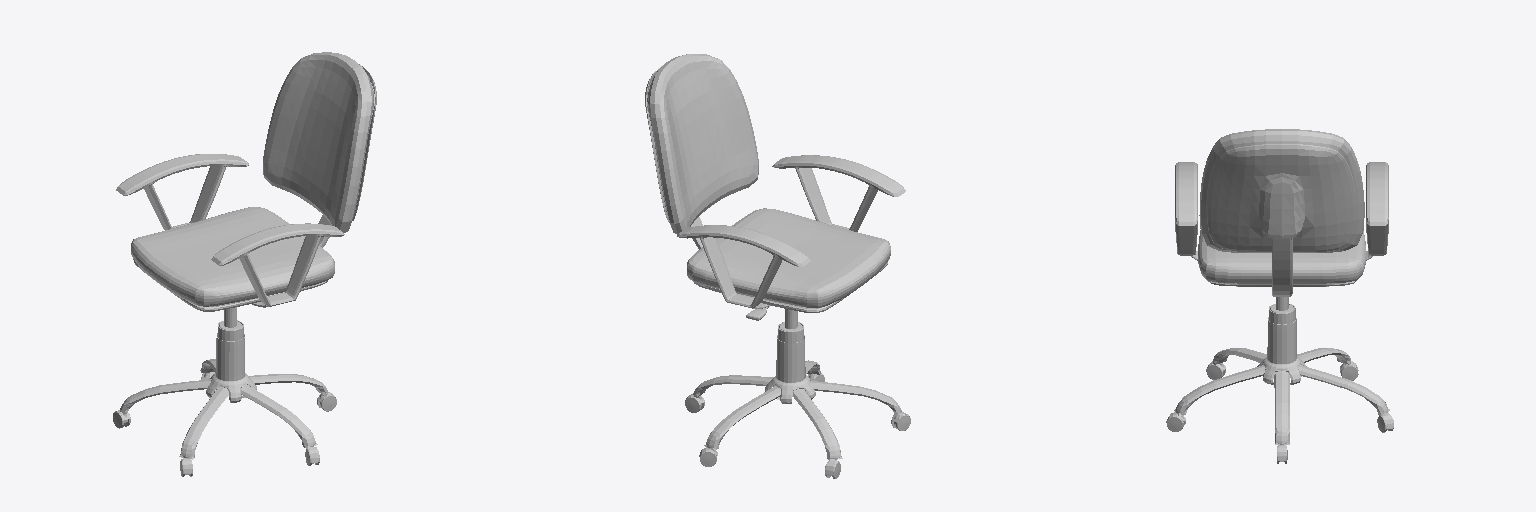
3 views of the same model, side by side, from view 1: azimuth 30°, elevation 25°; view 2: azimuth 150°, elevation 25°; view 3: azimuth 270°, elevation 25° (orthographic).
Visible parts, largest first — view 1: Chair; view 2: Chair; view 3: Chair.
Boxes of the visible parts, x1=… form: Chair: x1=113, y1=52, x2=376, y2=476; Chair: x1=645, y1=54, x2=910, y2=478; Chair: x1=1166, y1=129, x2=1393, y2=463.
Bounding box in the file's own units: 0.43 × 0.6537 × 0.3935.